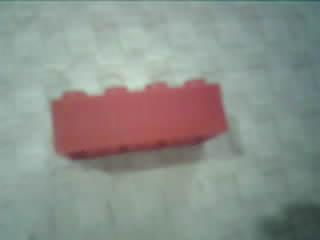lego: (47, 76, 228, 160)
